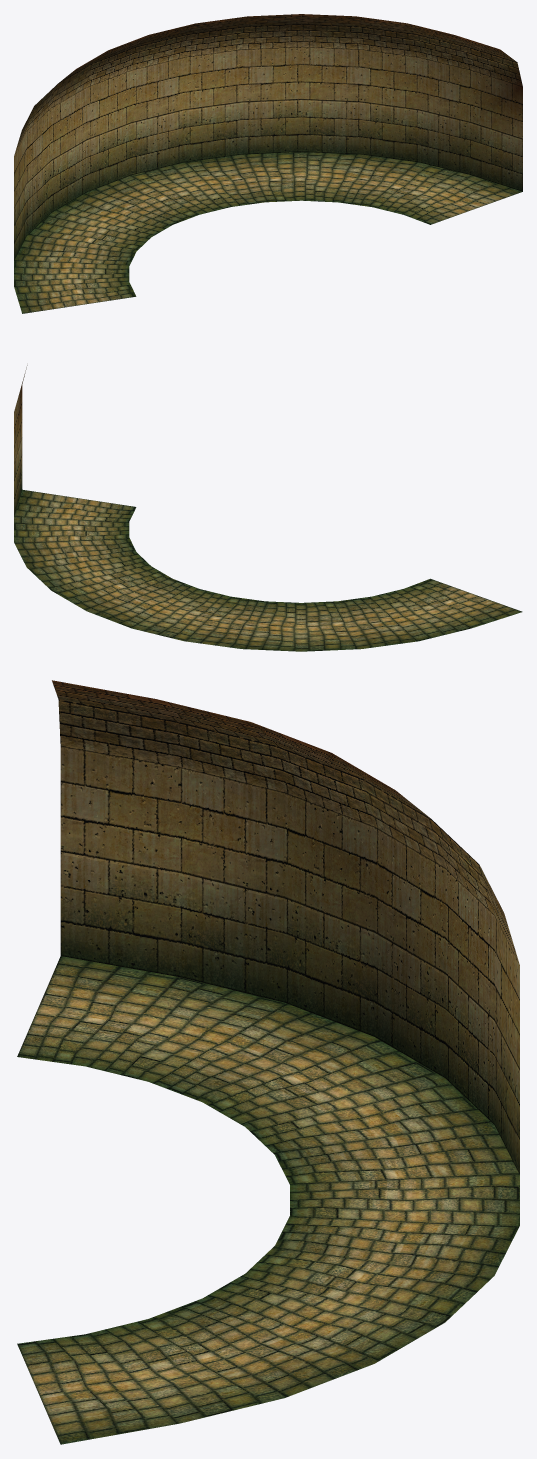
The model's file is Mission12_Sewer02_B.glb.
3 views of the same model, one above another, from view 1: azimuth 30°, elevation 25°; view 2: azimuth 150°, elevation 25°; view 3: azimuth 270°, elevation 25° (orthographic). The views are drawn at different scales.
Parts seen in each view (by area): view 1: MISSION12_SEWER02_B; view 2: MISSION12_SEWER02_B; view 3: MISSION12_SEWER02_B.
Part boxes in pixels (x1,y1,x2,y2): MISSION12_SEWER02_B: (14, 14, 522, 313); MISSION12_SEWER02_B: (14, 365, 522, 651); MISSION12_SEWER02_B: (17, 680, 519, 1444).
Bounding box in the file's own units: 20 × 6 × 8.7.
Materials: 3 (3 with a texture image).
